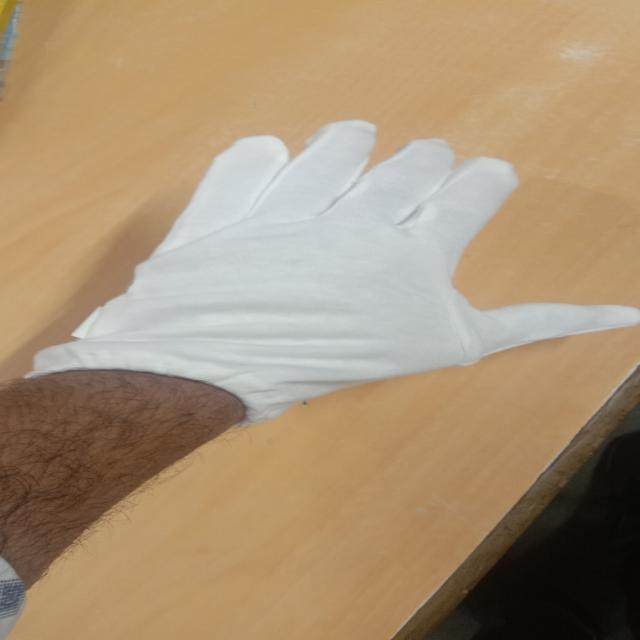glove_hand: (1, 116, 638, 416)
